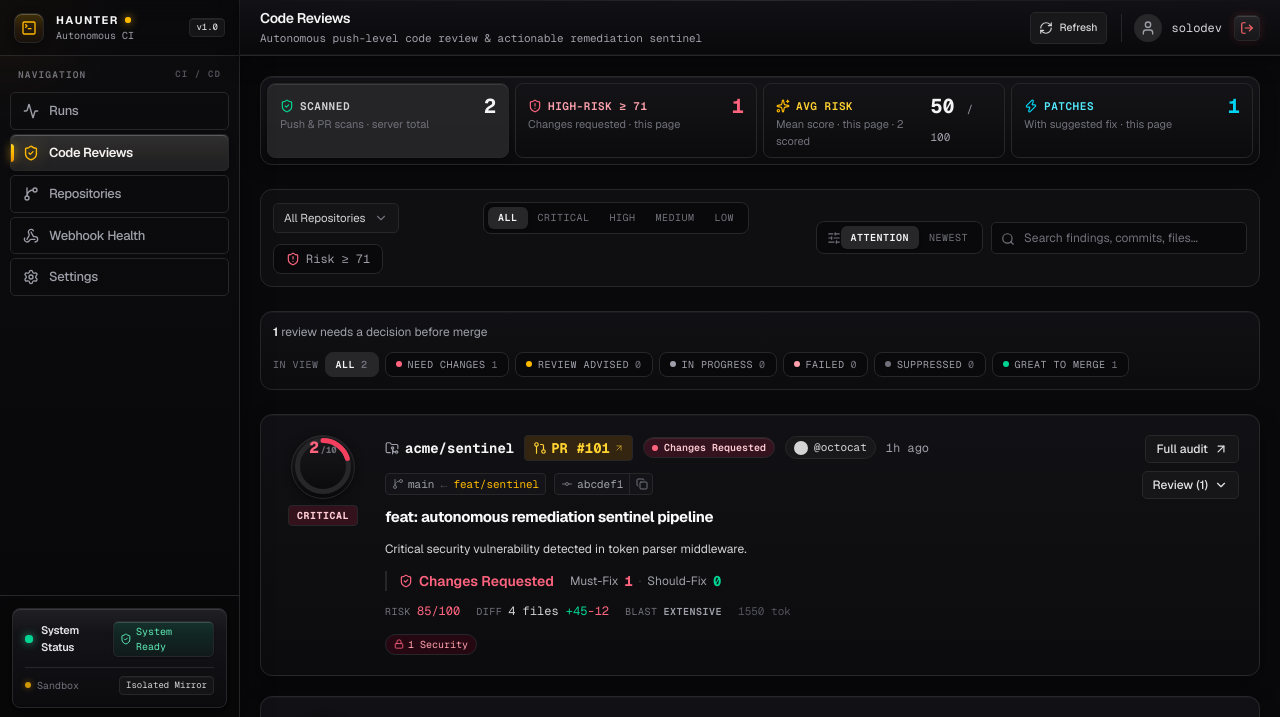
Test: ReviewsPage (app/reviews/page.tsx) › overview rows show confidence and open a full audit detail view
This screenshot has width=1280, height=717.
Expected: the heading "feat: autonomous remediation sentinel pipeline" is shown, [385, 507, 713, 526]
Click the button "Full audit" in the row of "1h ago". click: coordinates (1192, 449)
box: [1145, 435, 1239, 463]
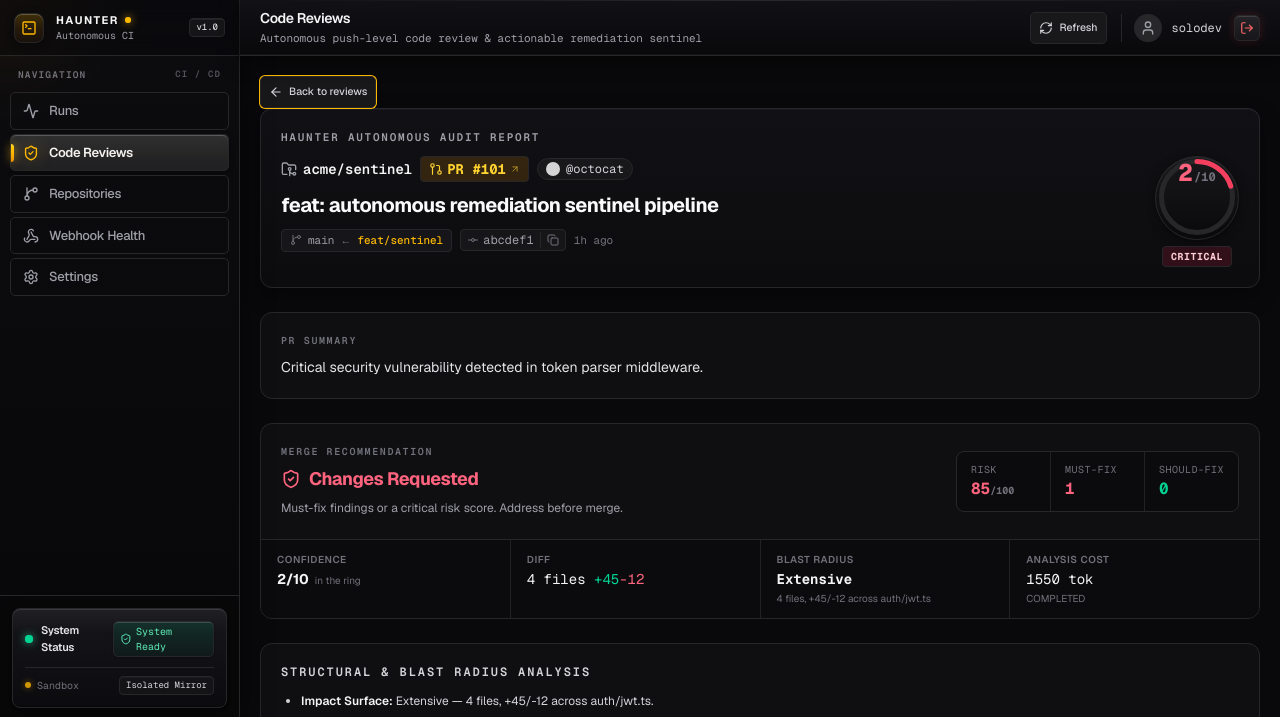
Now the heading "PR Summary" is shown, box [281, 334, 357, 346]
Now the text "Merge recommendation" is shown, box [281, 445, 433, 458]
Now the text "Confidence" is shown, box [277, 553, 347, 566]
